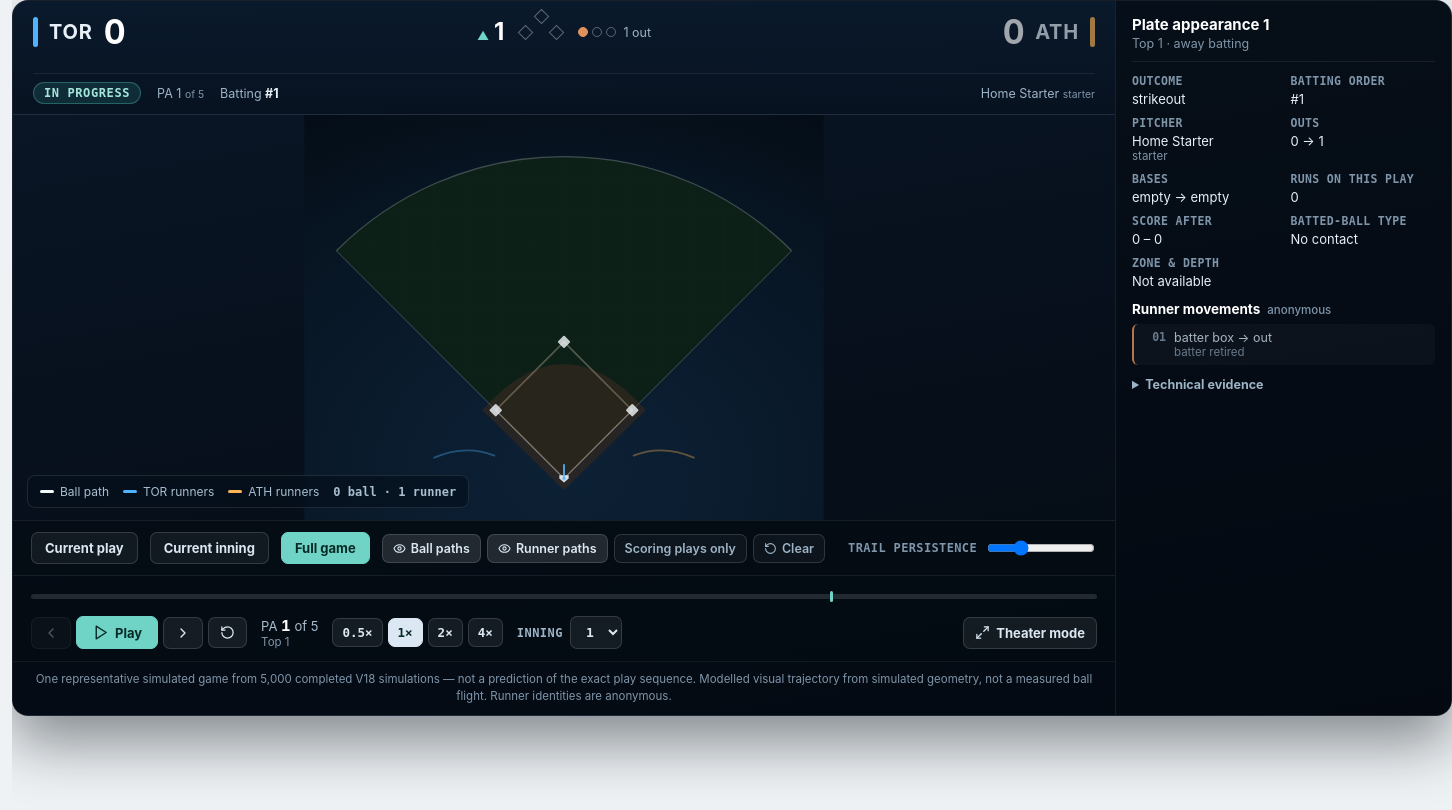
navigation › returns to the first plate appearance with Home
Set the slider to "4" at {"x": 564, "y": 618}, box [13,575,1115,661]
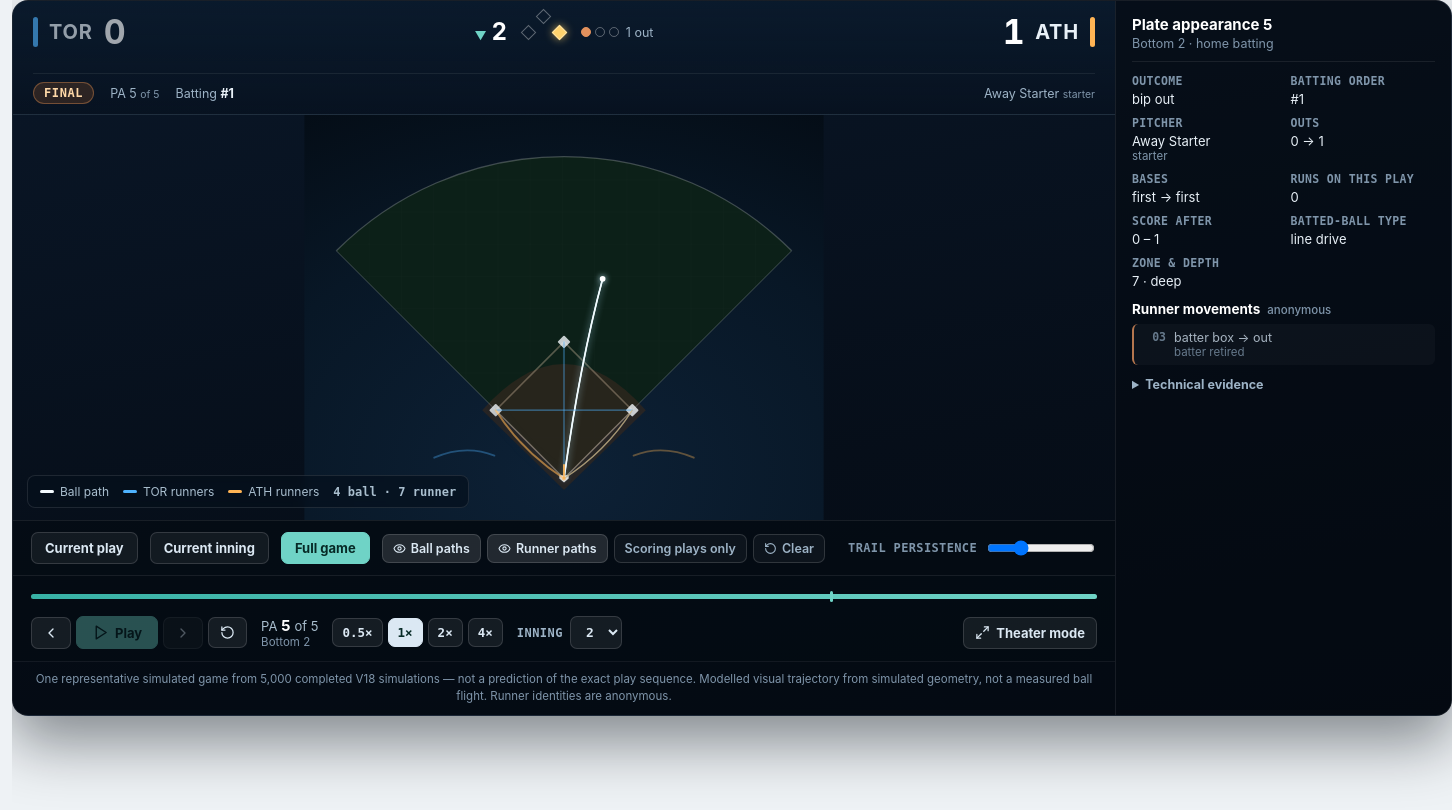
Press Home
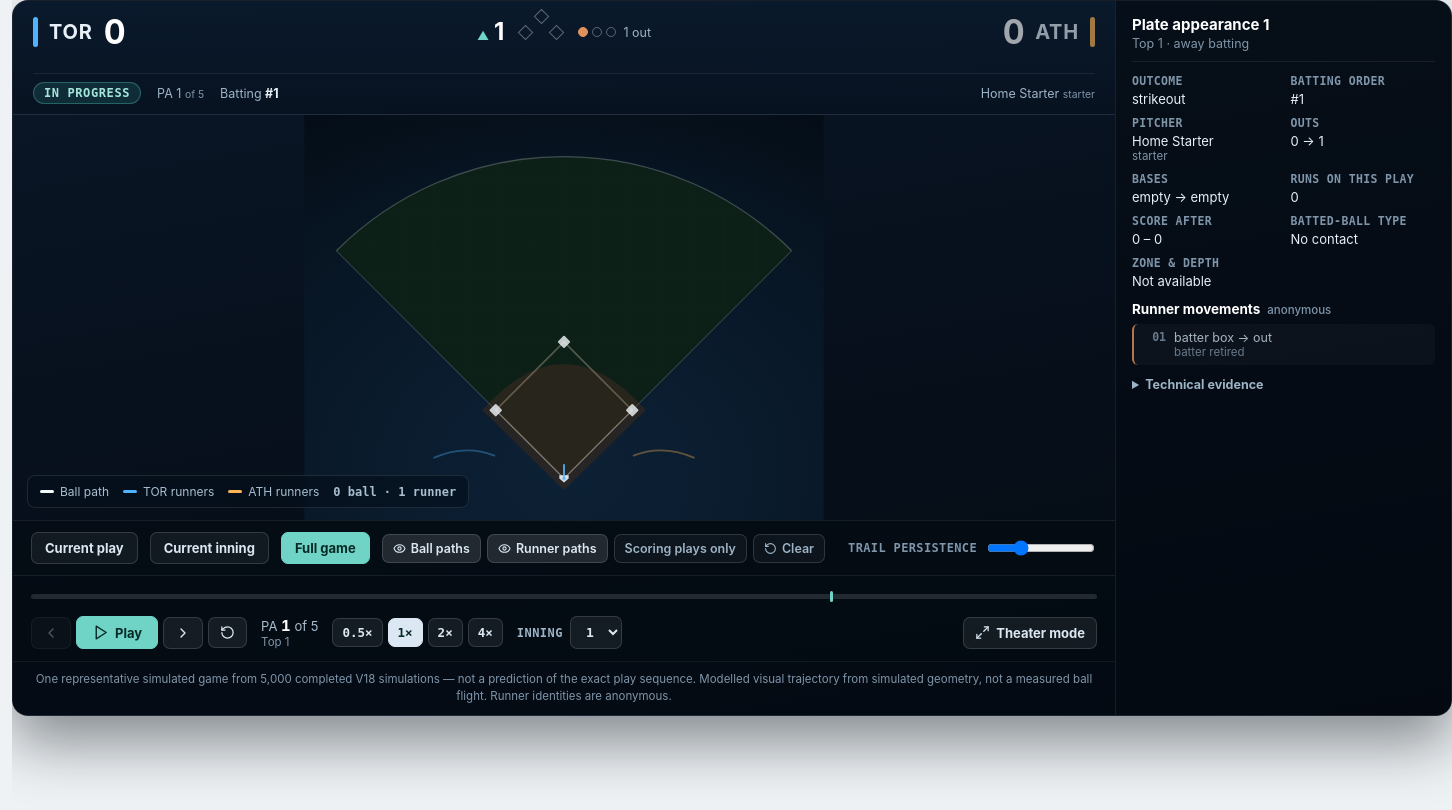
Expected: the text "Plate appearance 1" is shown, [1132,15,1270,34]
